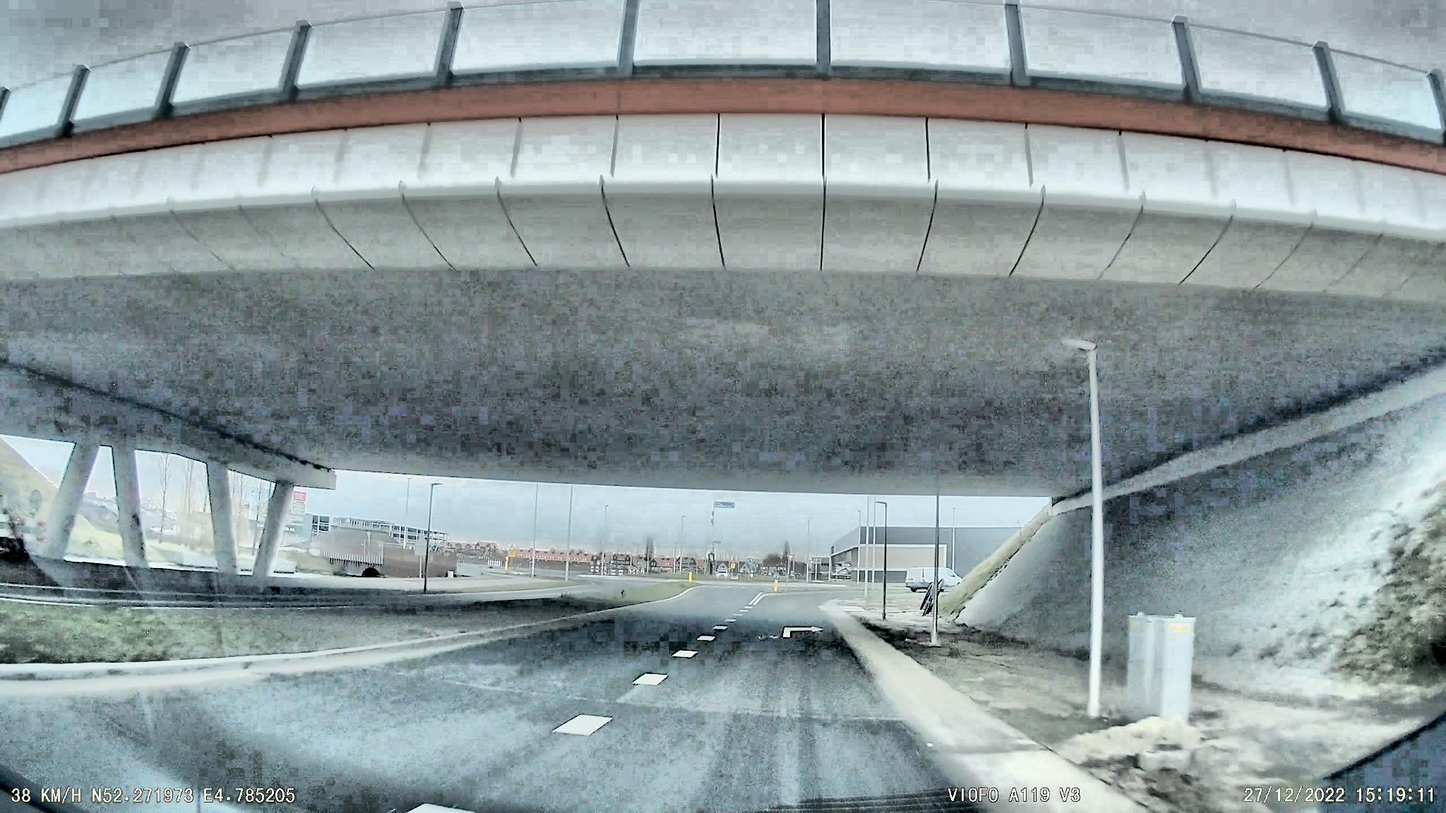Roads: (0, 584, 1145, 813)
